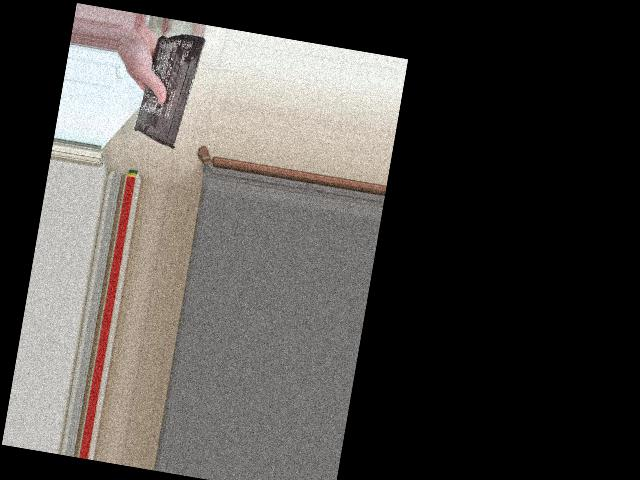chocolate: (135, 31, 203, 153)
